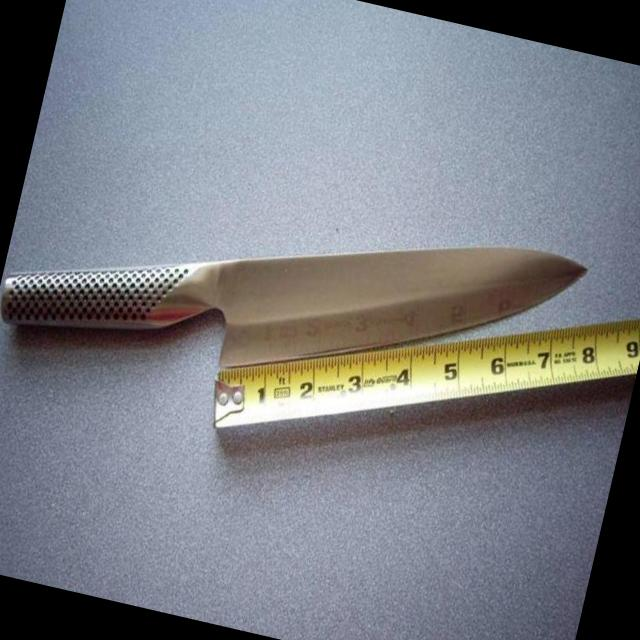Knife: (1, 247, 585, 367)
